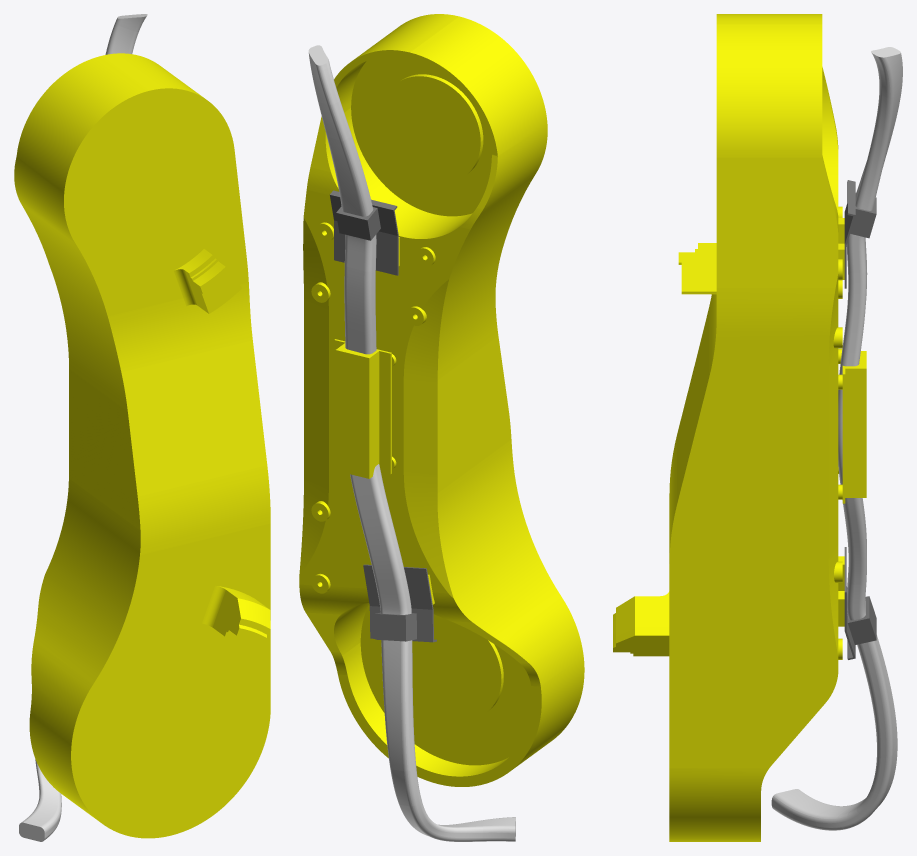
3 views of the same model, side by side, from view 1: azimuth 30°, elevation 25°; view 2: azimuth 150°, elevation 25°; view 3: azimuth 270°, elevation 25° (orthographic). The views are drawn at different scales.
Parts seen in each view (by area): view 1: Mesh_0; view 2: Mesh_0; view 3: Mesh_0.
Part boxes in pixels (bbox=[...]): Mesh_0: bbox=[14, 14, 270, 841]; Mesh_0: bbox=[299, 14, 584, 841]; Mesh_0: bbox=[613, 14, 902, 841].
Size of the model in its own units: 0.42 by 0.4777 by 1.52.
